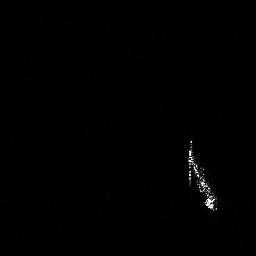ship: (184, 137, 223, 213)
